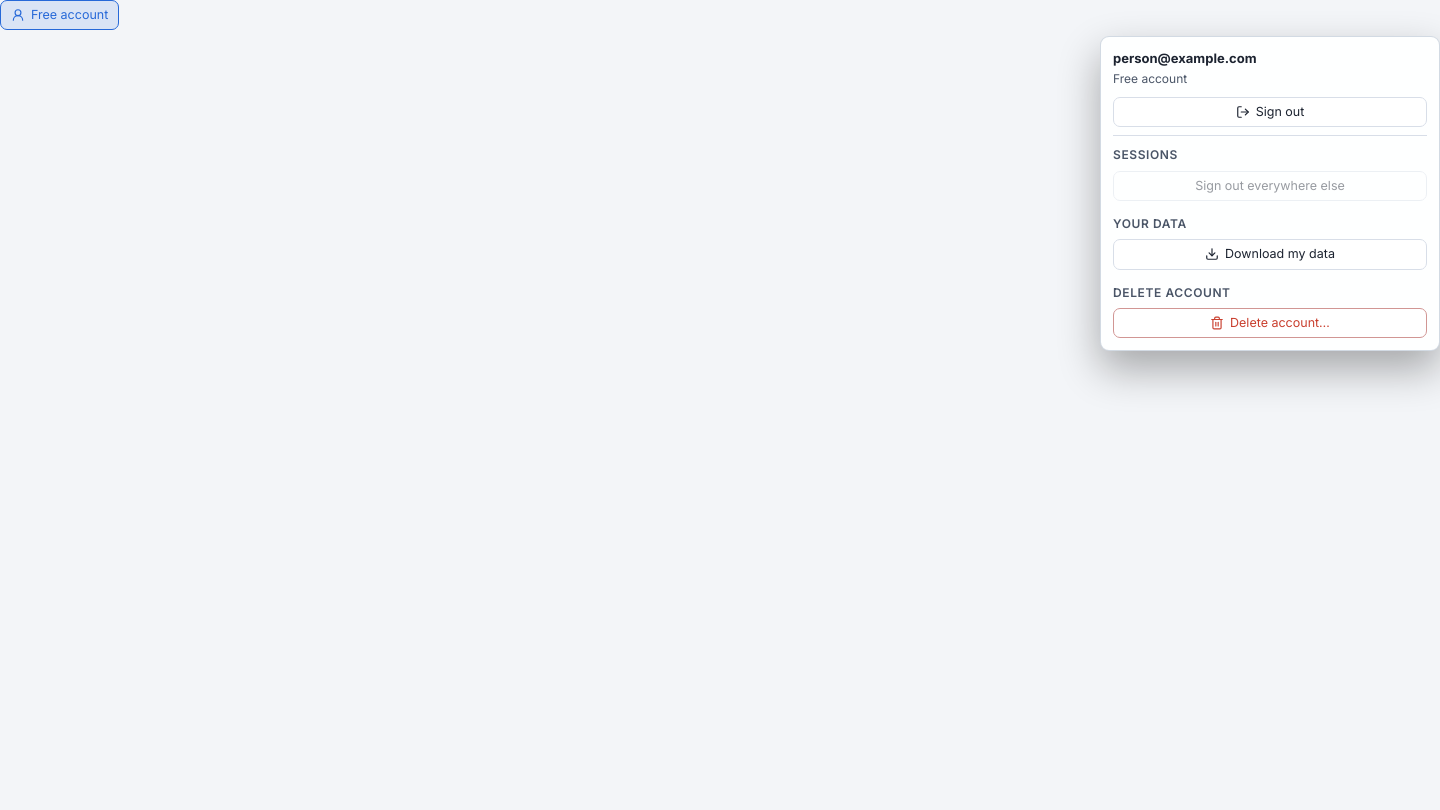
Scenario: account menu › loads account settings only when opened and signs out after deletion
This screenshot has width=1440, height=810.
expect the text "person@example.com" is shown: met, box [1113,50,1256,66]
Click the button "Delete account…" at (1270, 323), box [1113,308,1427,338]
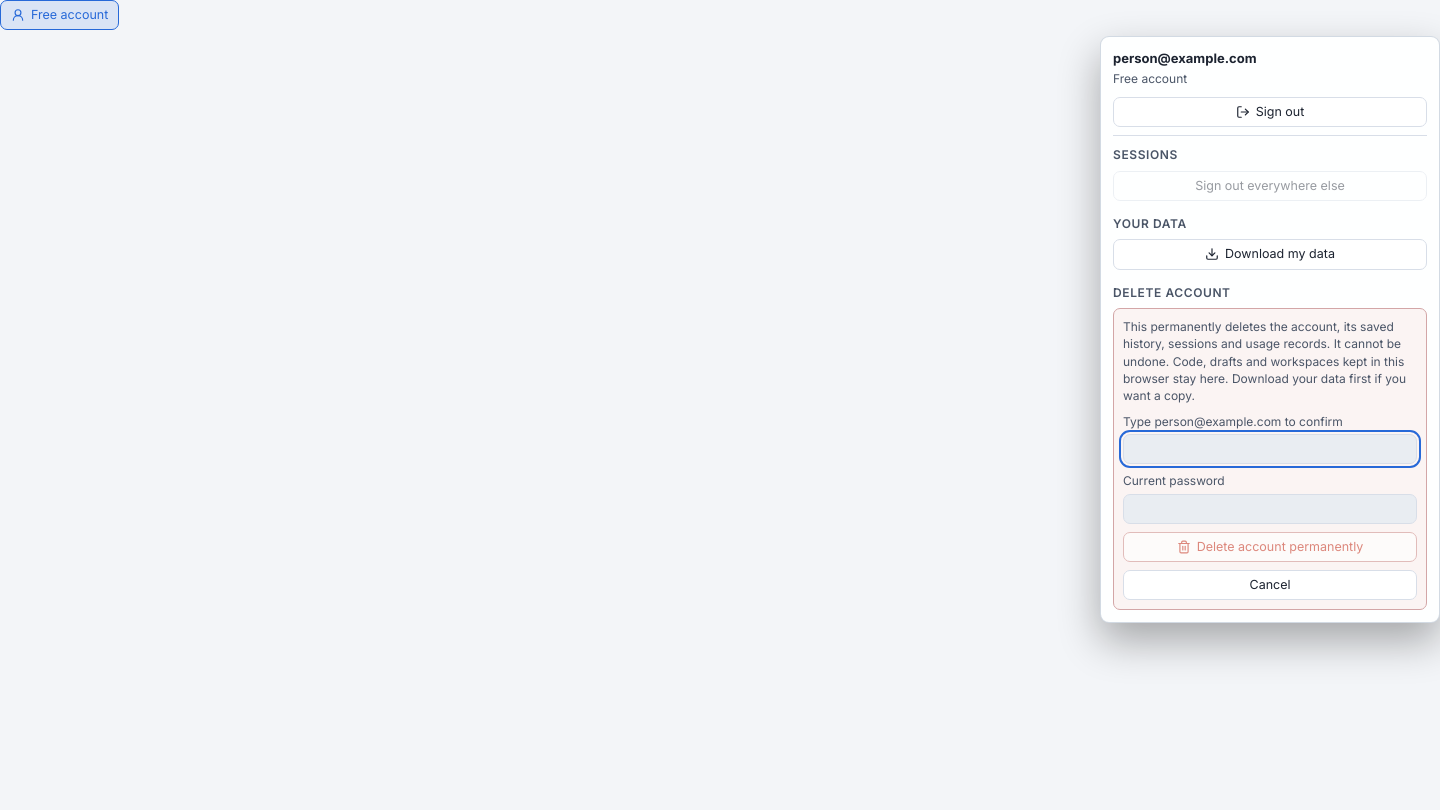
Type "person@example.com" into the field labelled "Type person@example.com to confirm" at (1270, 449), box [1123,434,1417,464]
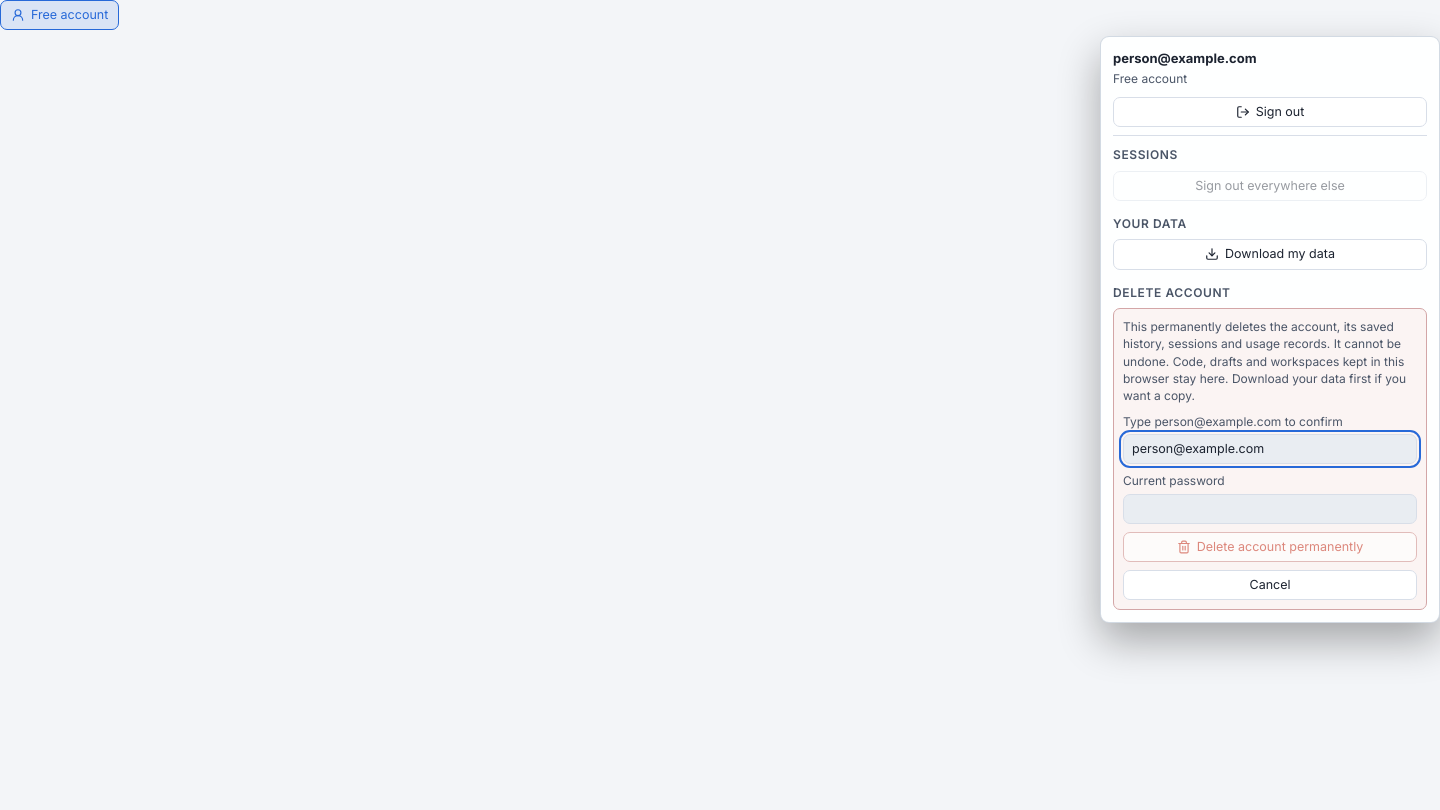
Type "correct password" into the password field labelled "Current password" at (1270, 509), box [1123,494,1417,524]
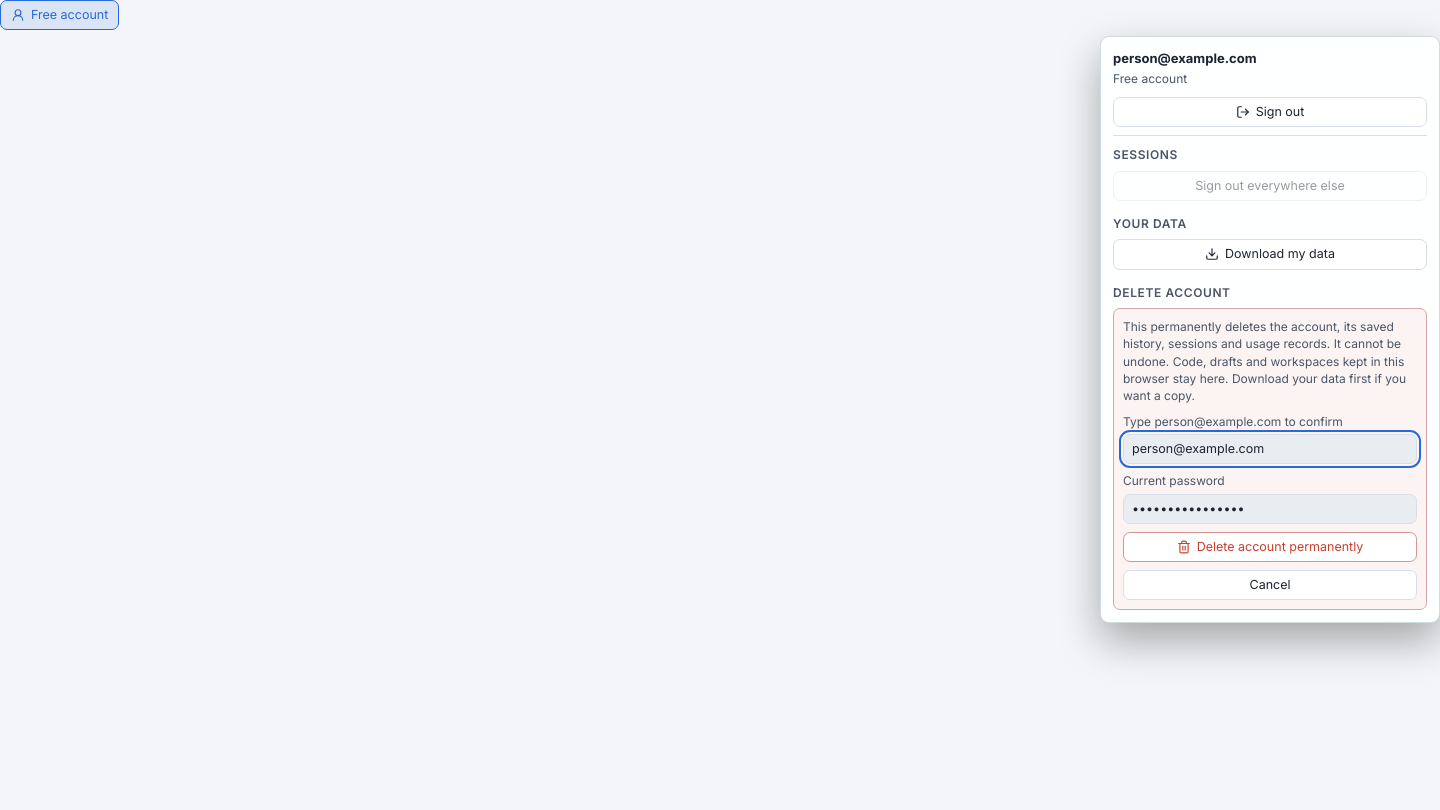
Click the button "Delete account permanently" at (1270, 547), box [1123,532,1417,562]
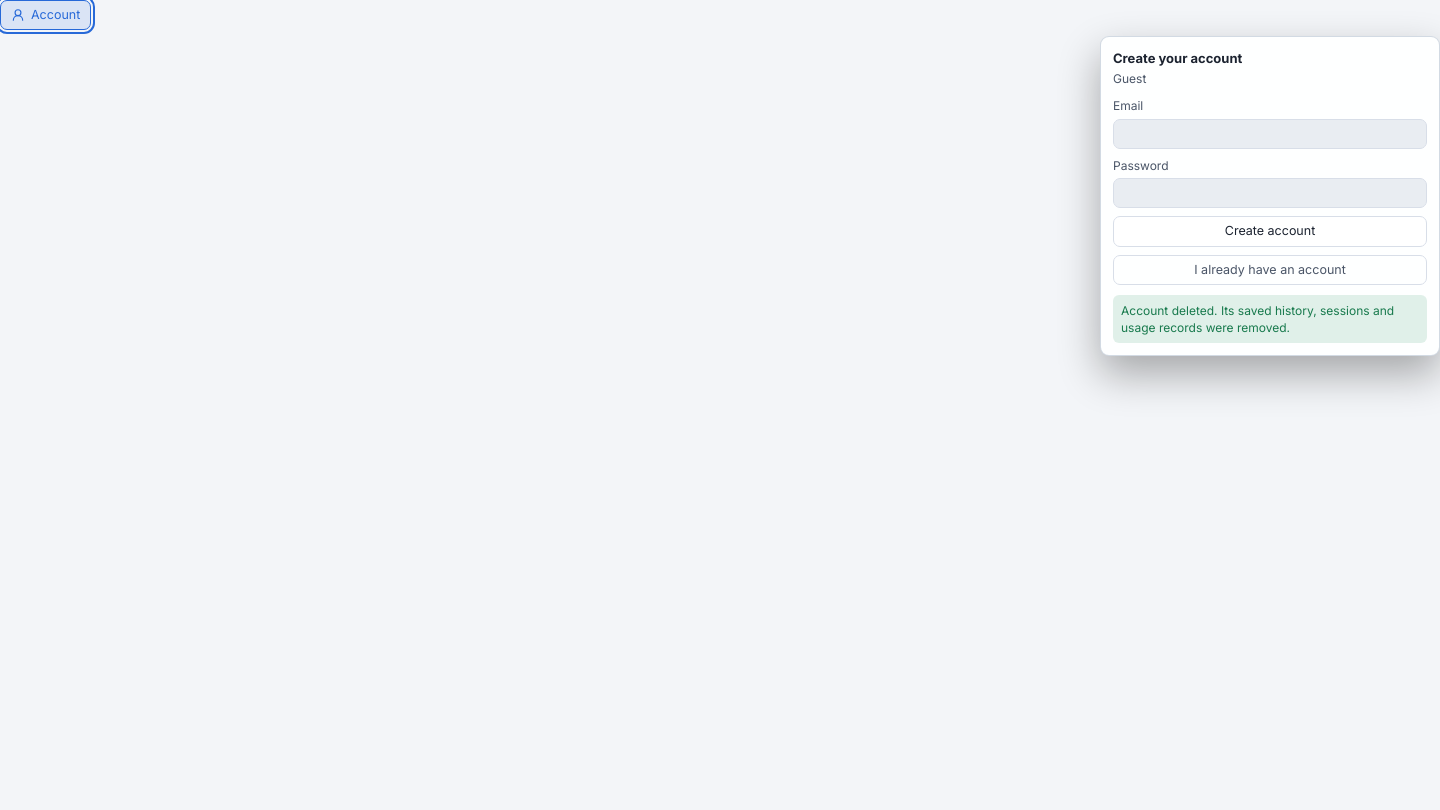
expect the message shows "Account deleted.": met, box [1121,303,1394,335]
expect the text "person@example.com" is gone: met
expect the text "Create your account" is shown: met, box [1113,50,1242,66]
